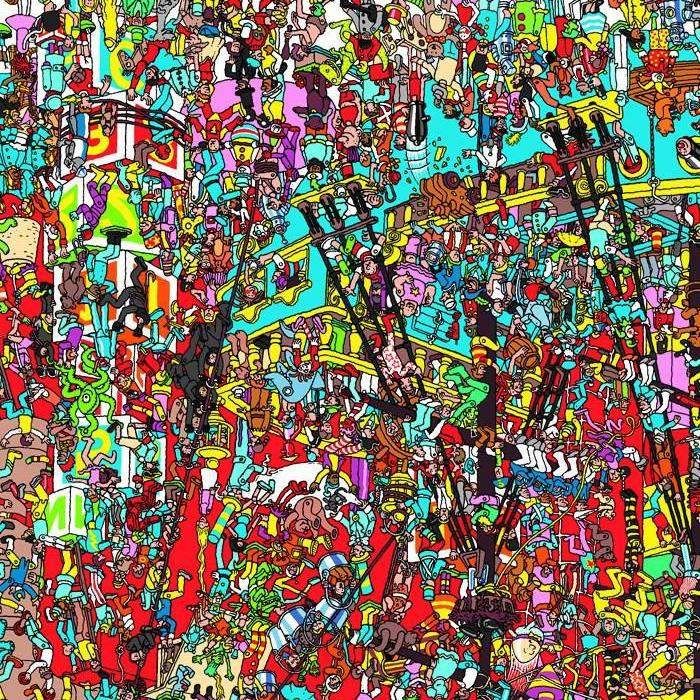waldos: (194, 244, 215, 279)
